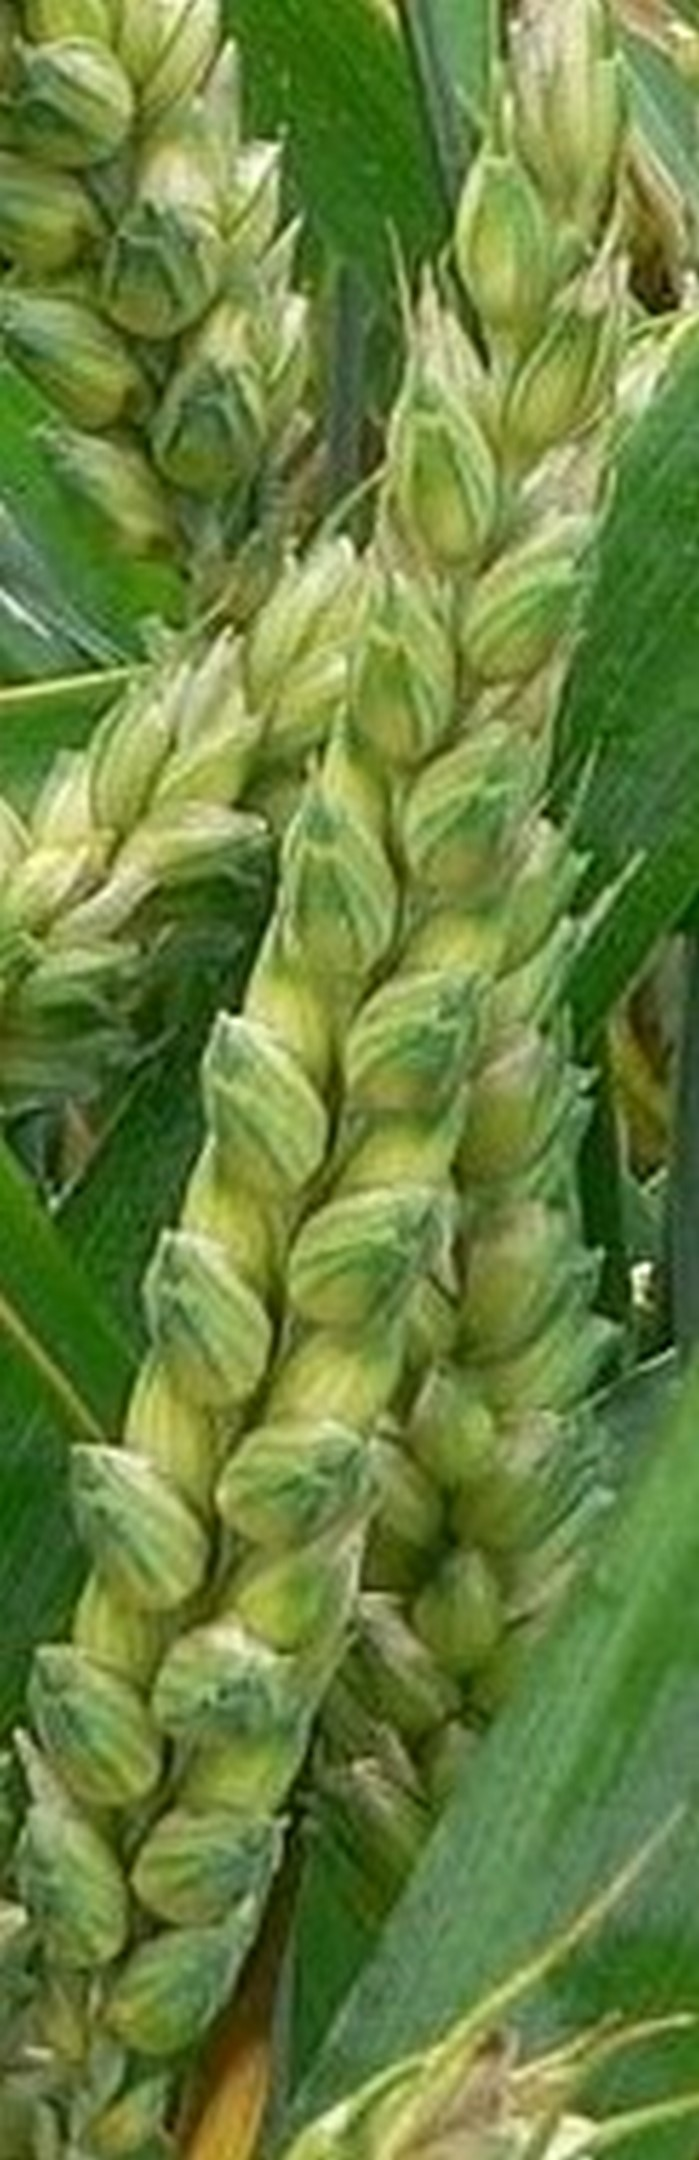Healthy Wheat: (55, 1, 699, 2024)
